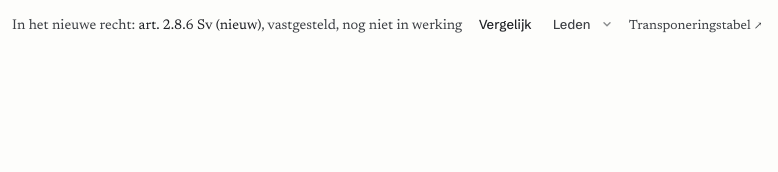
Test: ArticleSuccession › names the new article with its status, opens it in place and folds out the leden
This screenshot has width=778, height=172.
Expected: the element with class "succession" shows "vastgesteld, nog niet in werking", [261,19,462,33]
Expected: the text "leden 1, 2 en 3" is not shown
Step 1. Click the button "Leden" → [583, 24], box [548,12,618,36]
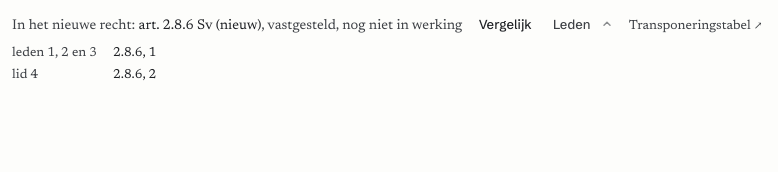
Result: the button "Leden" is expanded at [548,12,618,36]
Result: the text "leden 1, 2 en 3" is shown at [12,44,97,62]
Result: the text "2.8.6, 2" is shown at [113,68,156,80]
